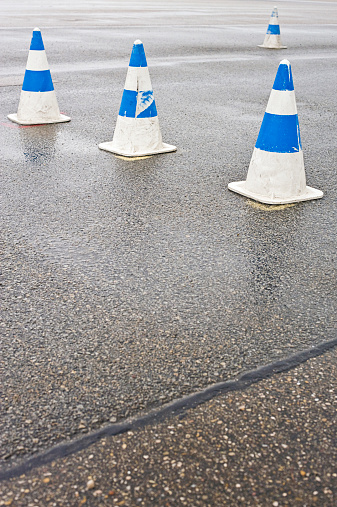trafficcone: (228, 58, 325, 207), (99, 39, 177, 158), (5, 27, 72, 128), (259, 6, 288, 51)
